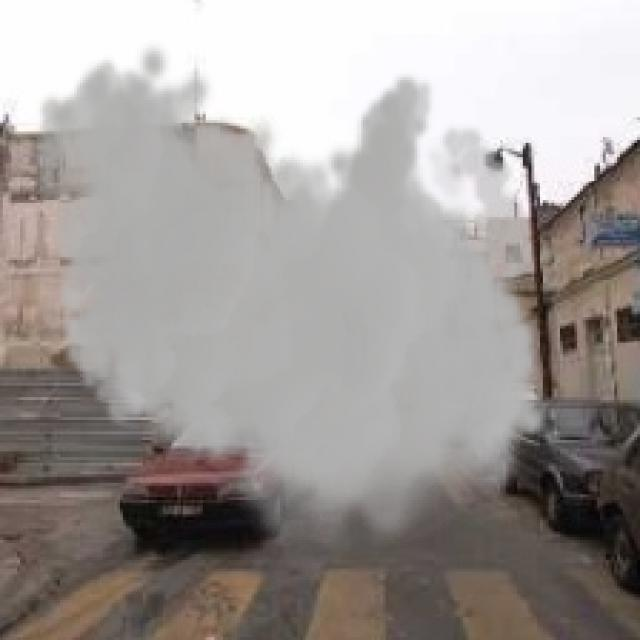smoke: (31, 40, 552, 560)
